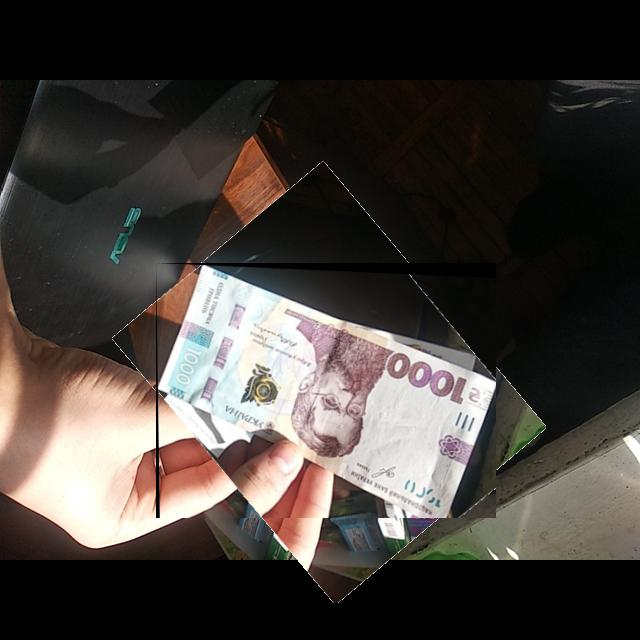1000uah: (158, 265, 497, 519)
